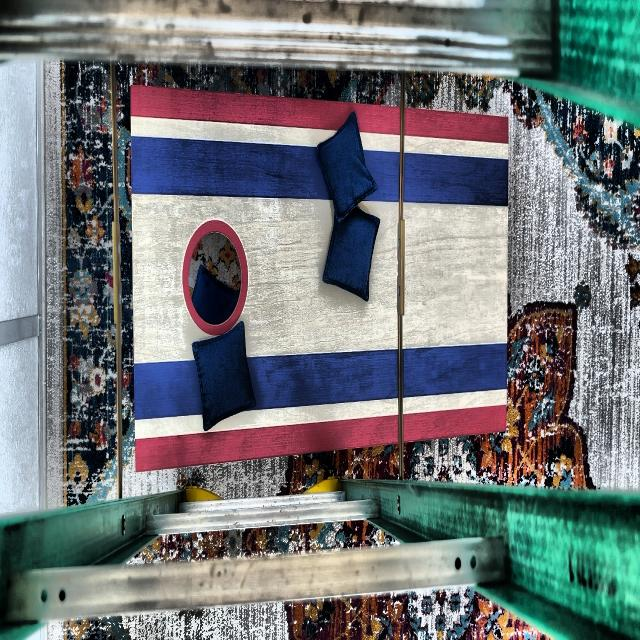blue-bean-bag: (321, 188, 387, 308), (192, 321, 256, 431), (316, 113, 377, 220)
blue-bean-bag-in-hole: (191, 266, 241, 323)
board: (134, 118, 505, 430)
hole: (182, 218, 249, 336)
